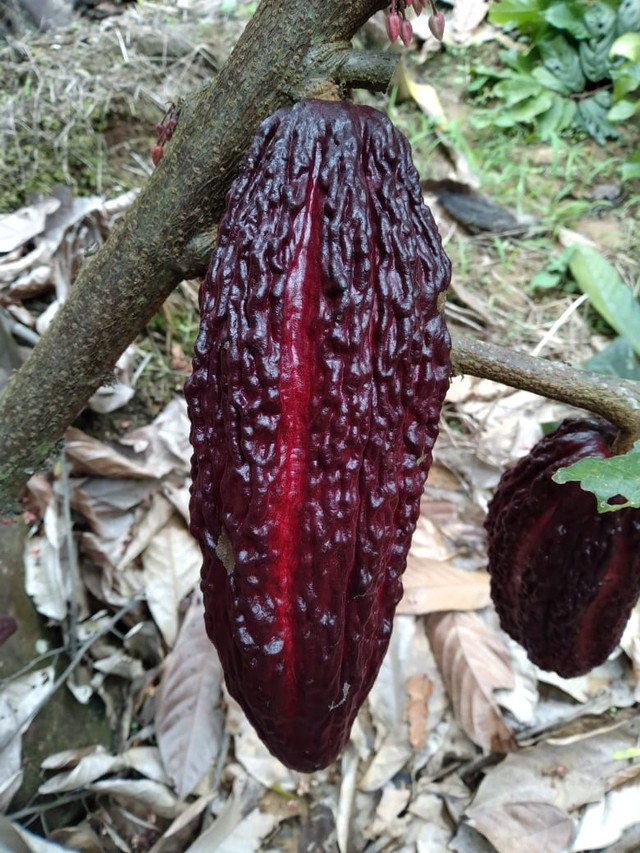Health: (176, 82, 459, 783)
